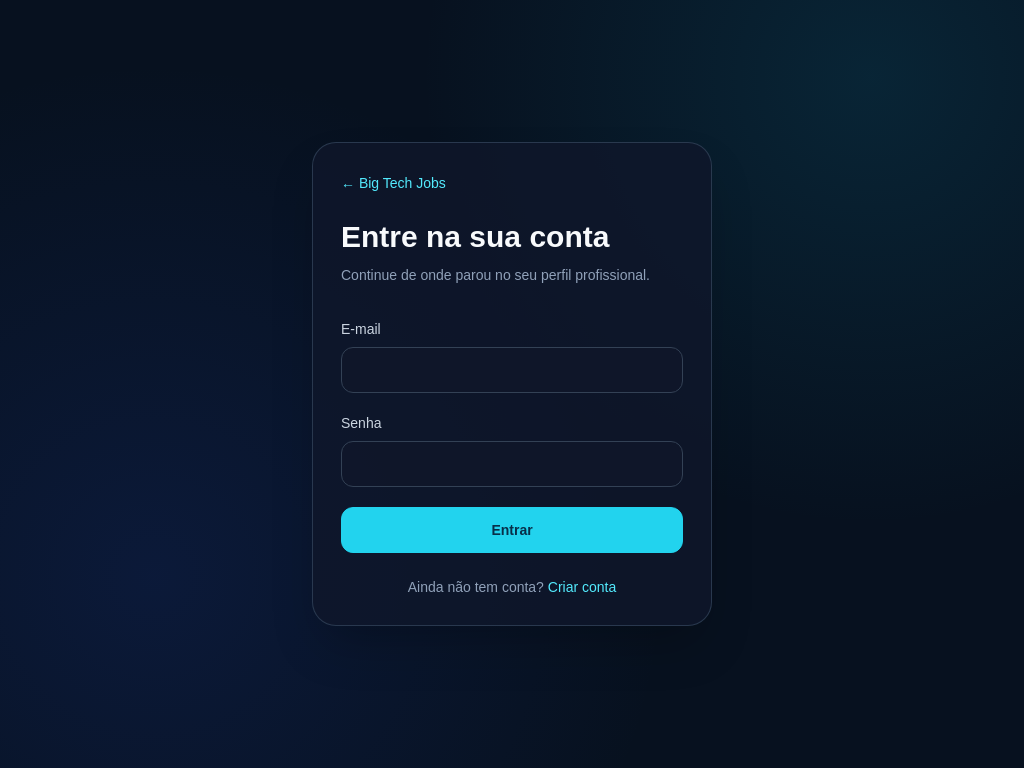
Scenario: AuthForm › não expõe a mensagem interna quando o login falha
Step 1. Type "ada@example.com" into the field labelled "E-mail" → point(512, 370), box 341,347 -> 683,393
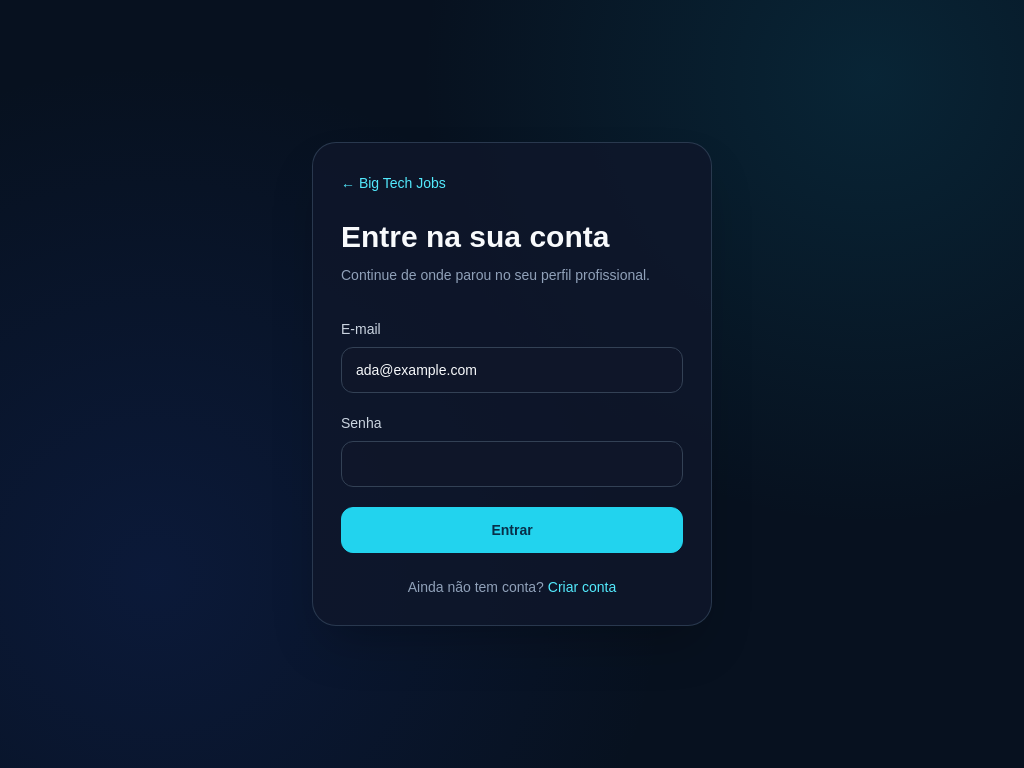
Step 2. Type "wrong" into the password field labelled "Senha" → point(512, 464), box 341,441 -> 683,487
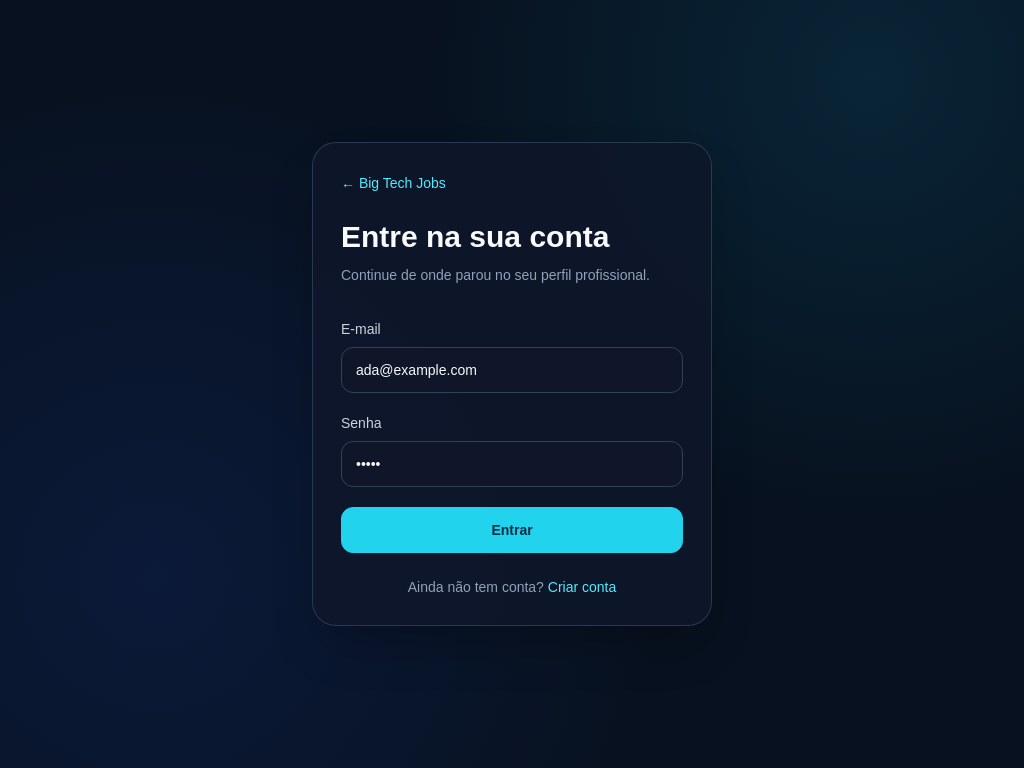
Step 3. Click the button "Entrar" → point(512, 530), box 341,507 -> 683,553
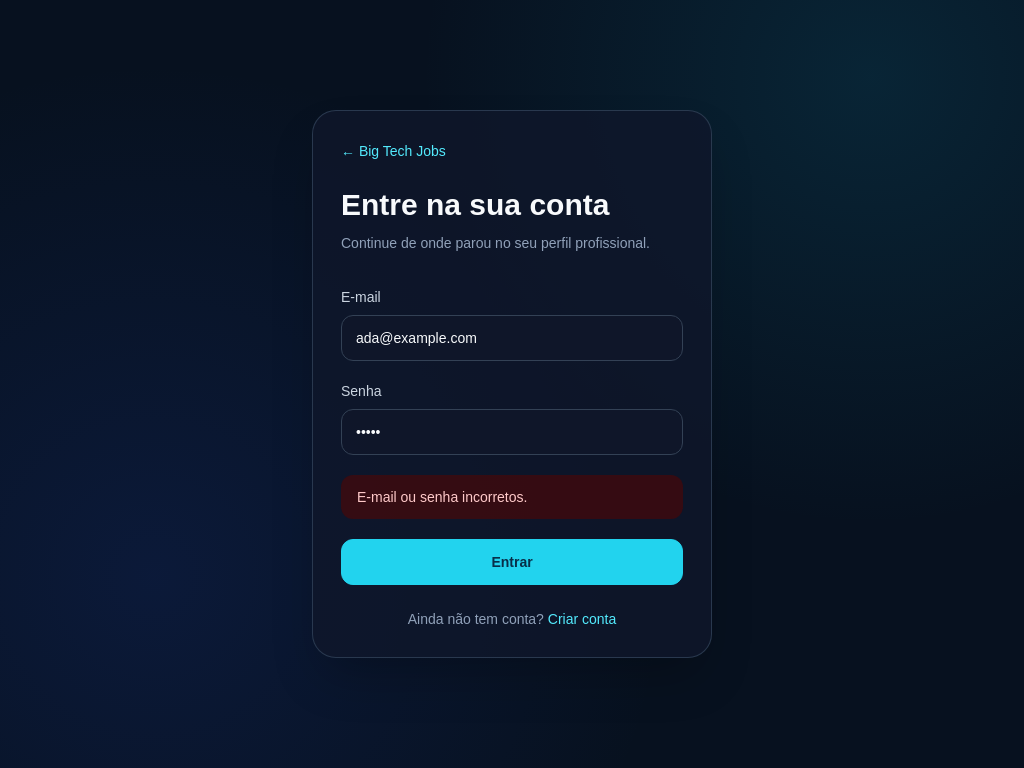
Expected: the message reads "E-mail ou senha incorretos.", 357,489 -> 527,505
